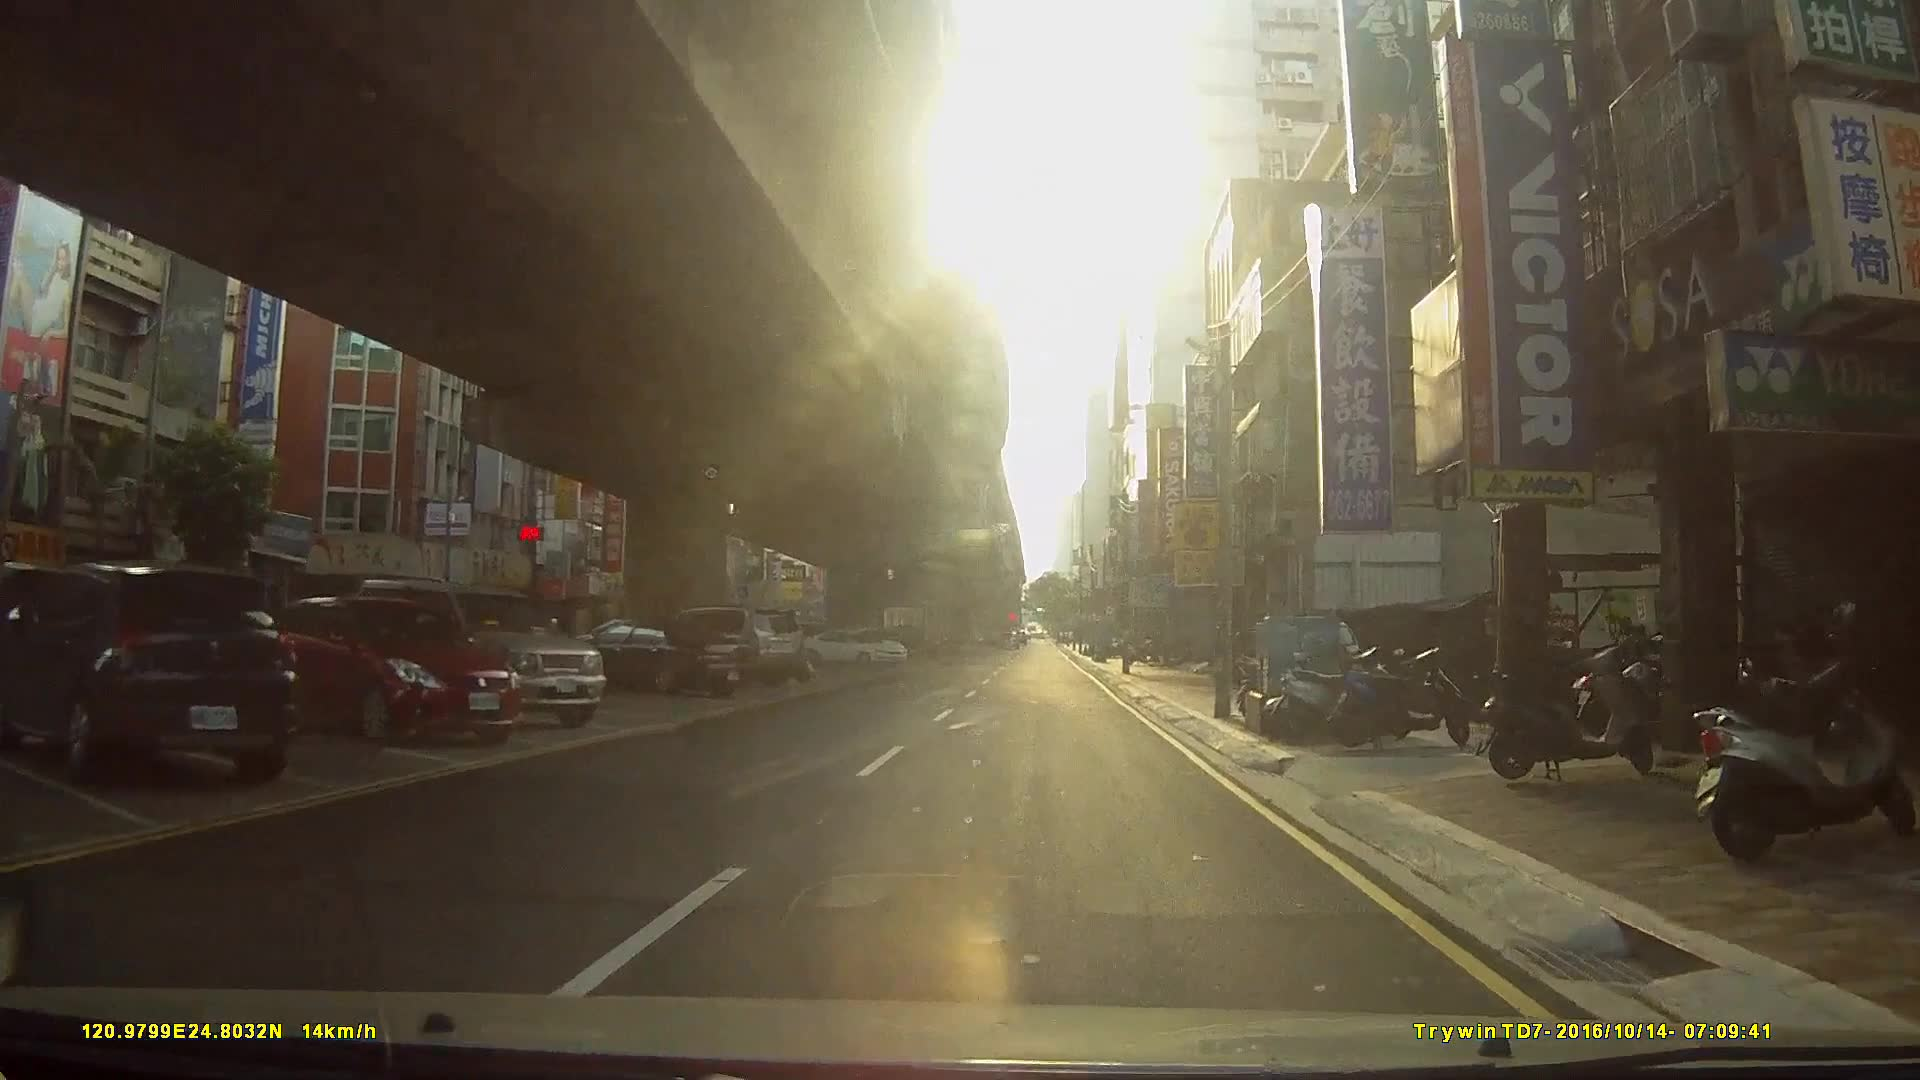vehicle: (0, 556, 301, 783), (349, 574, 608, 729), (266, 591, 524, 740), (570, 615, 761, 694), (647, 603, 806, 688), (799, 625, 909, 667)
